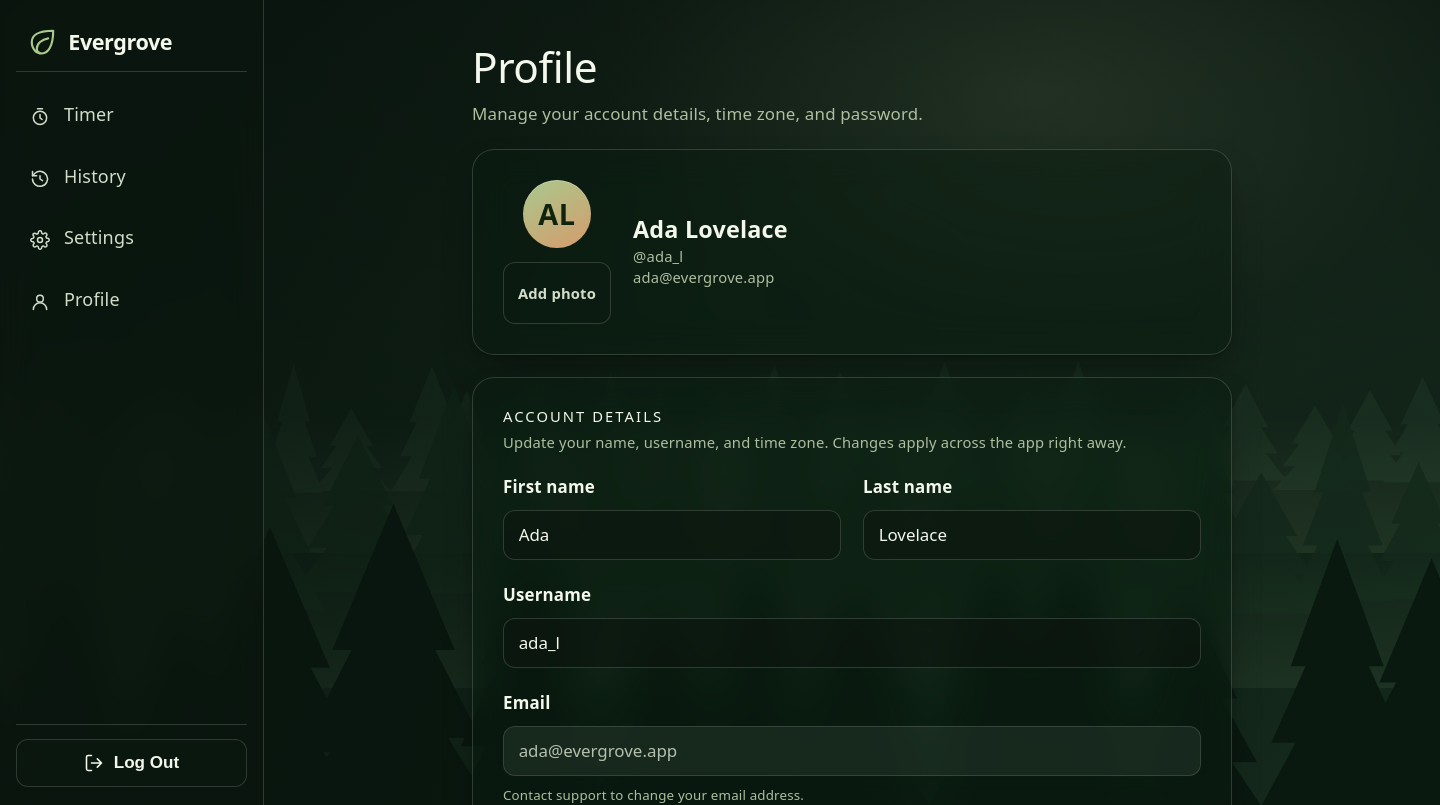
Test case: Suite J6 — When the server refuses › J6.2 — explains a refusal with no field to blame and leaves the edit intact
The image size is (1440, 805).
Replace the text in the field labelled "First name" with "Grace" at point(672, 535), box [519,511,825,559]
(page scrolled)
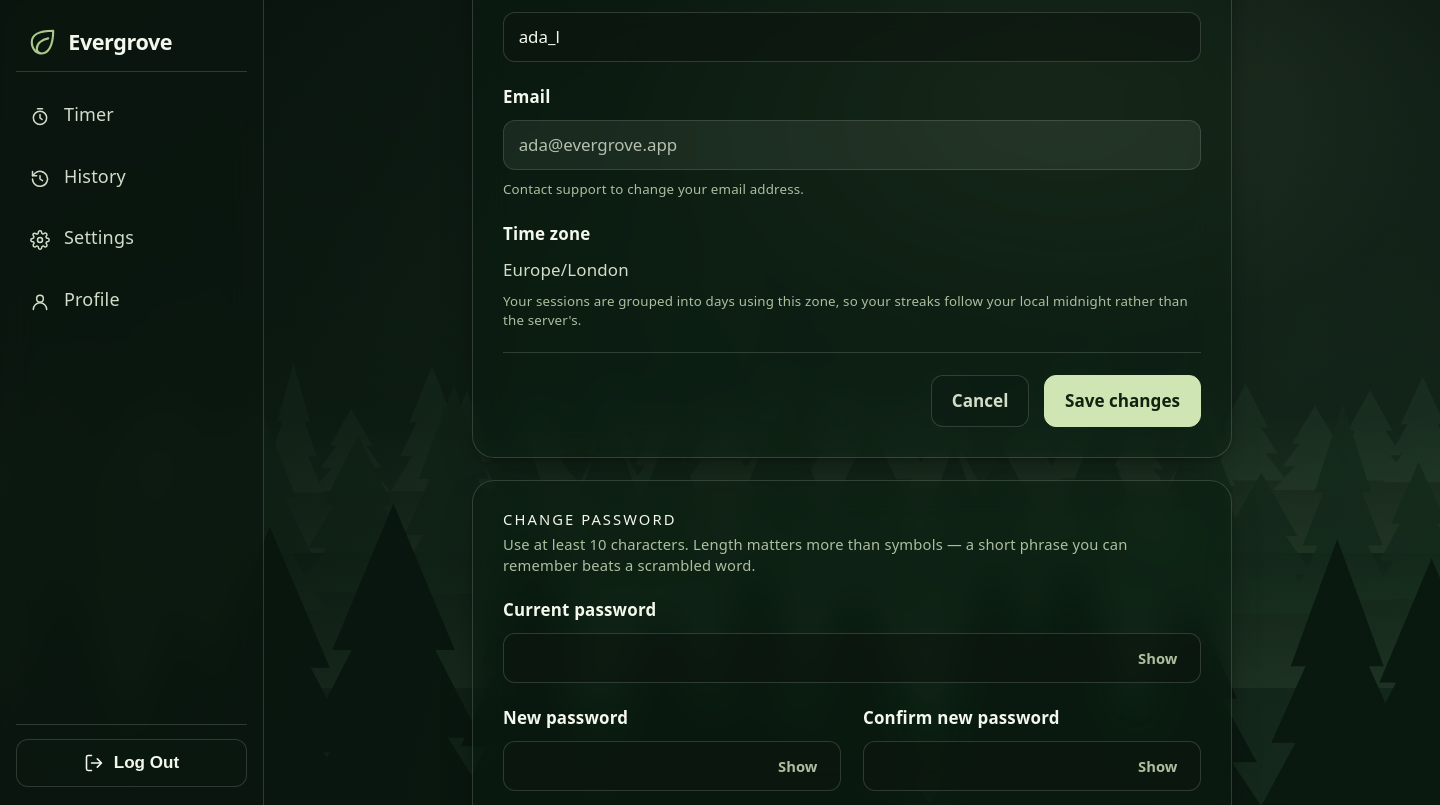
Click the button "Save changes" at point(1122, 401), box [1044,375,1201,427]
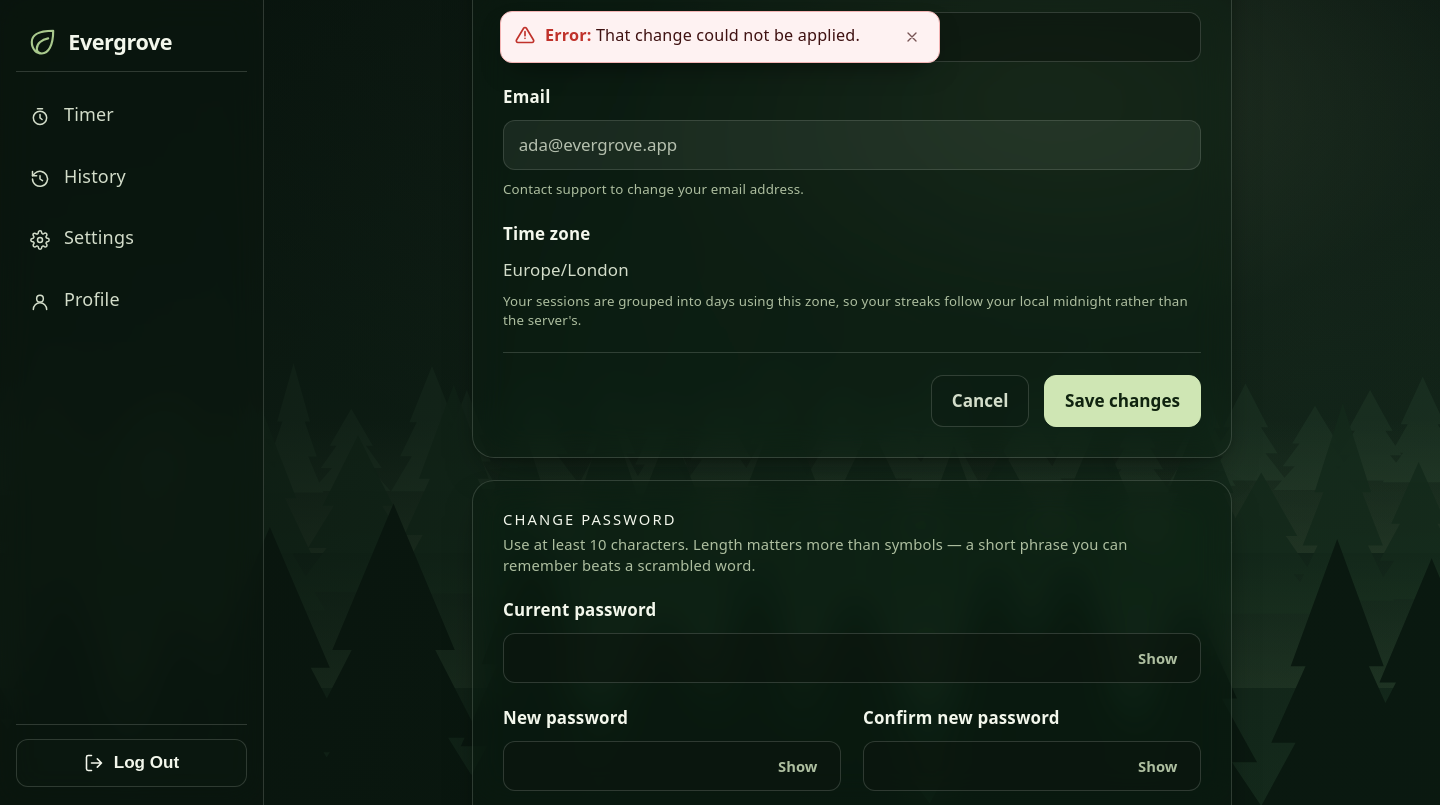
expect the button "Save changes" is enabled: met, box [1044,375,1201,427]
expect the text "Error: That change could not be applied." is shown: met, box [545,24,889,48]
